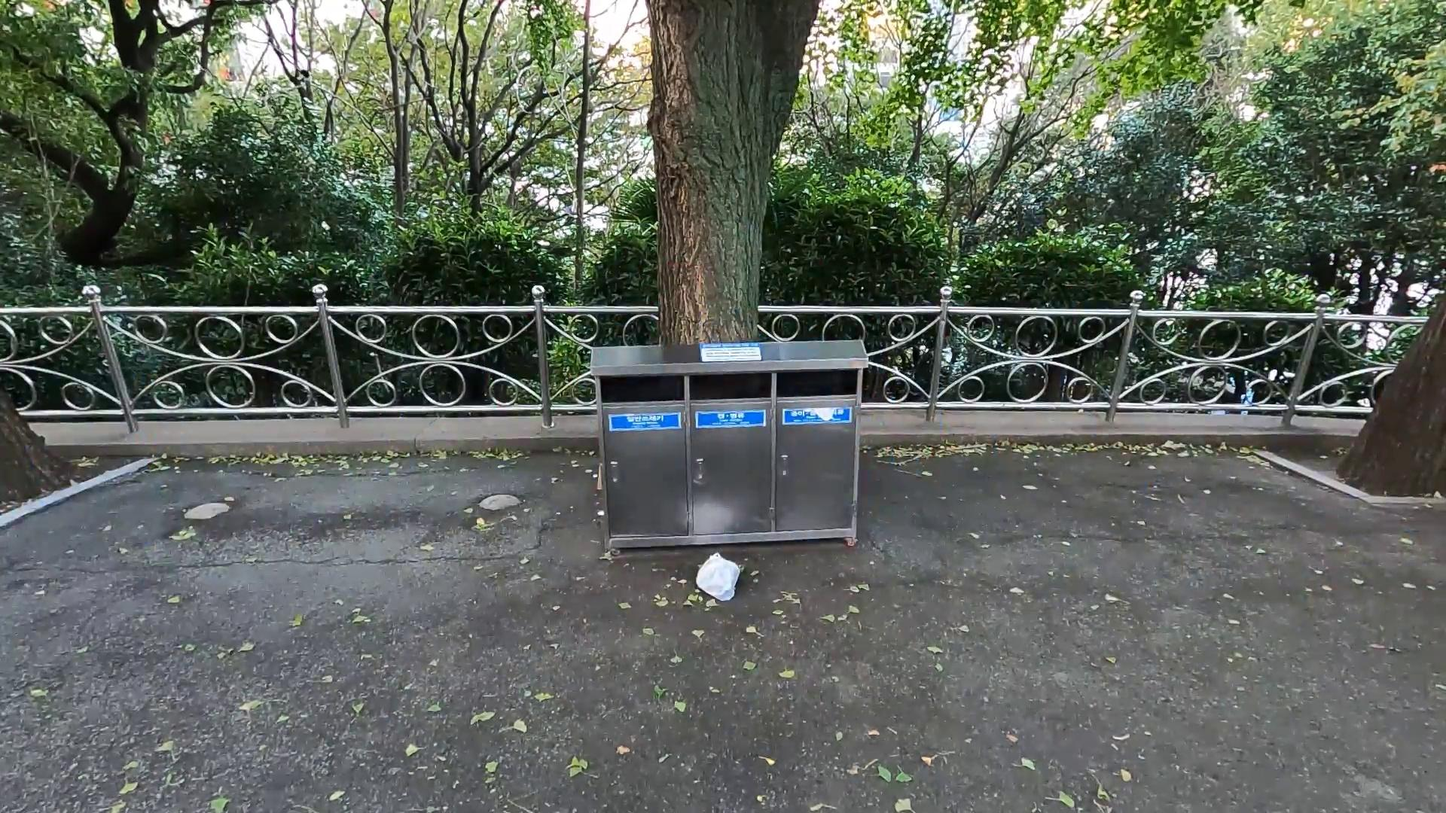trash: (691, 550, 742, 605)
